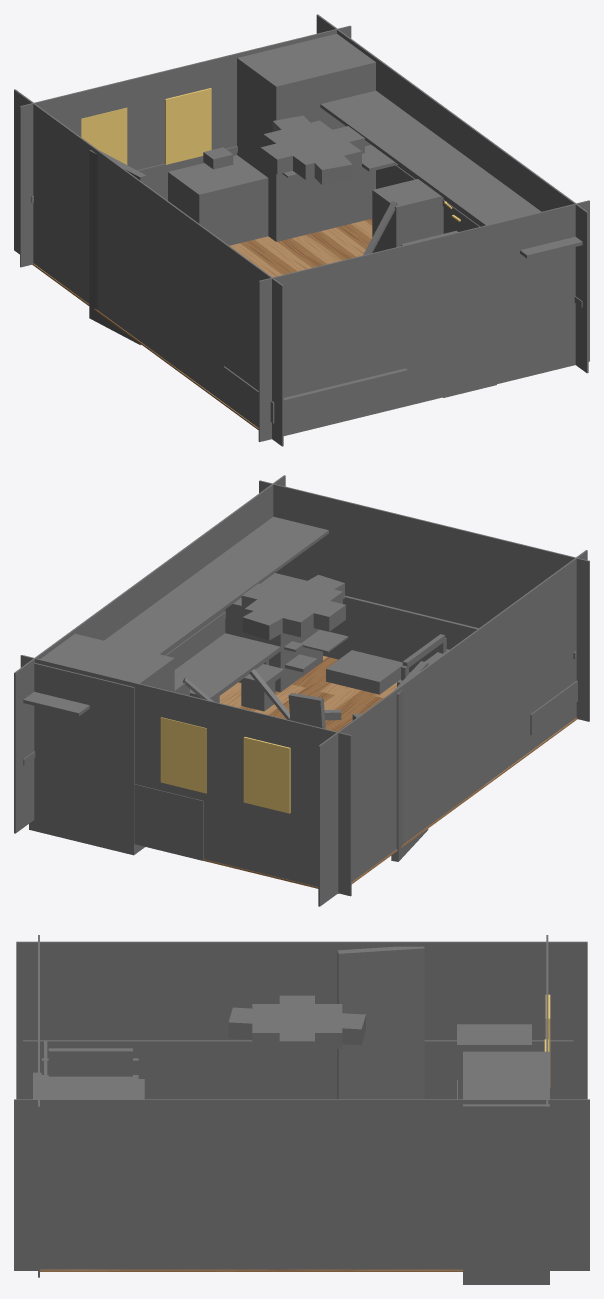
File: map 1.fbx
3 renders of one model, top to bottom at view 1: azimuth 30°, elevation 25°; view 2: azimuth 150°, elevation 25°; view 3: azimuth 270°, elevation 25°, orthographic. The views are drawn at different scales.
Visible parts, largest first — view 1: Wall__1_, Wall__3_, Cube__26_, Wall, Cube__2_, Wall__2_, Cube__31_, Cube, Cube__21_, Cube__7_, Cube__11_, Cube__12_ (+5 smaller); view 2: Wall__3_, Wall__1_, Wall, Cube__26_, Wall__2_, Cube__2_, Cube, Cube__31_, Cube__40_, Cube__10_, Cube__11_, Cube__12_ (+10 smaller); view 3: Wall__2_, Wall__3_, Cube__26_, Cube__51_, Cube__47_, Cube__12_, Cube__43_, Cube__27_, Cube__45_, Cube__56_, Cube__42_, Cube__21_ (+4 smaller).
Boxes of the visible parts, x1,y1,x2,y2 form: Wall__1_: (258, 200, 589, 441); Wall__3_: (14, 89, 283, 446); Cube__26_: (237, 33, 375, 241); Wall: (20, 25, 351, 267); Cube__2_: (320, 90, 582, 258); Wall__2_: (316, 14, 588, 373); Cube__31_: (168, 155, 268, 245); Cube: (32, 219, 372, 429); Cube__21_: (223, 366, 407, 423); Cube__7_: (372, 179, 443, 252); Cube__11_: (165, 88, 211, 164); Cube__12_: (263, 120, 361, 179); Wall__3_: (318, 550, 587, 906); Wall__1_: (259, 480, 589, 721); Wall: (20, 655, 351, 896); Cube__26_: (29, 633, 174, 855); Wall__2_: (14, 475, 285, 833); Cube__2_: (23, 516, 328, 716); Cube: (203, 656, 577, 893); Cube__31_: (134, 784, 203, 860); Cube__40_: (174, 633, 281, 700); Cube__10_: (243, 737, 290, 813); Cube__11_: (160, 717, 206, 793); Cube__12_: (244, 578, 342, 637); Wall__2_: (14, 1099, 589, 1270); Wall__3_: (16, 941, 587, 1099); Cube__26_: (463, 1051, 549, 1284); Cube__51_: (337, 946, 424, 1099); Cube__47_: (23, 1198, 573, 1204); Cube__12_: (252, 1004, 342, 1048); Cube__43_: (228, 1007, 365, 1045); Cube__27_: (48, 1048, 132, 1076); Cube__45_: (23, 1040, 573, 1047); Cube__56_: (457, 1024, 531, 1075); Cube__42_: (279, 995, 314, 1057); Cube__21_: (33, 1072, 138, 1099).
Bounding box in the file's own units: 21529 × 11129 × 30519.
